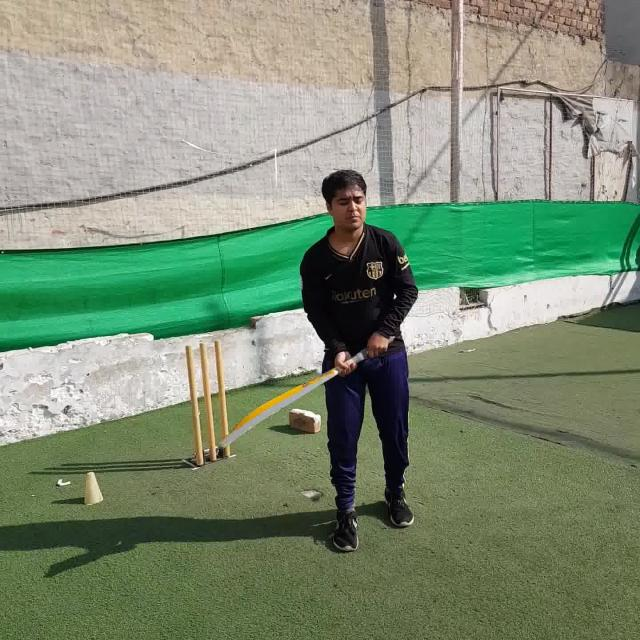bat: (216, 334, 392, 449)
